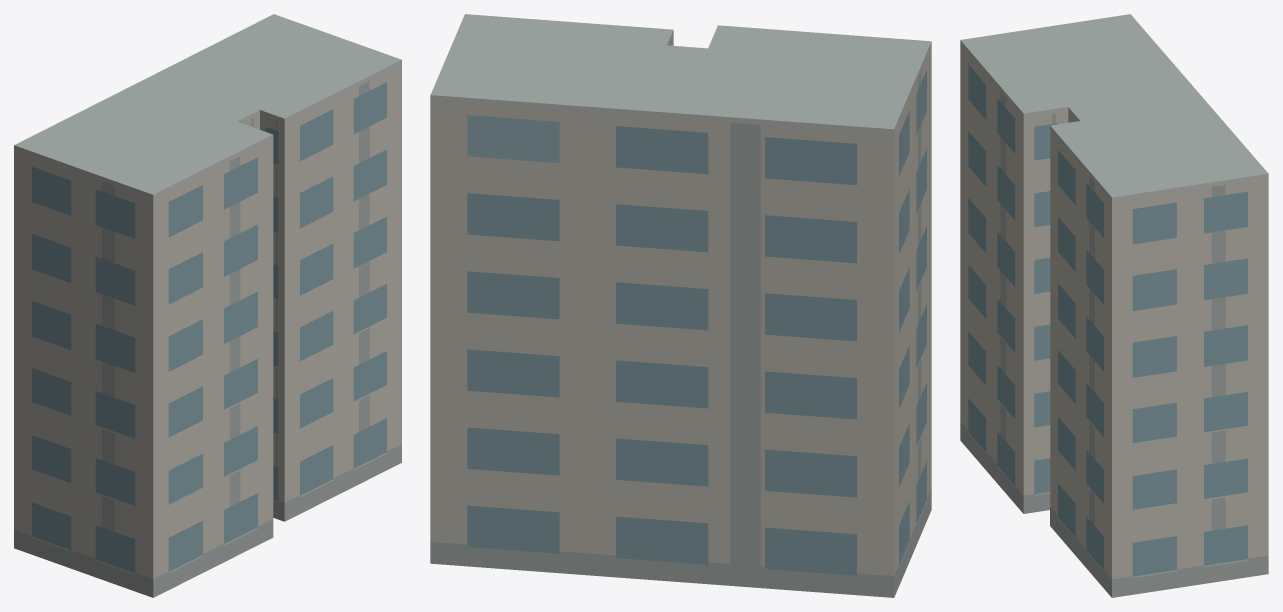
The model's file is survey-upis-32767338.glb.
The picture shows the model from 3 angles, left to right: view 1: azimuth 30°, elevation 25°; view 2: azimuth 150°, elevation 25°; view 3: azimuth 270°, elevation 25°; orthographic projection. The views are drawn at different scales.
Visible parts, largest first — view 1: survey-upis-32767338.tmp; view 2: survey-upis-32767338.tmp; view 3: survey-upis-32767338.tmp.
Part boxes in pixels (<box>): survey-upis-32767338.tmp: <box>14,14,401,597</box>; survey-upis-32767338.tmp: <box>430,14,931,597</box>; survey-upis-32767338.tmp: <box>960,14,1268,597</box>.
Size of the model in its own units: 20.09 by 20.43 by 14.27.
